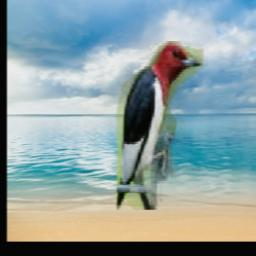Woodpecker: (117, 41, 204, 210)
